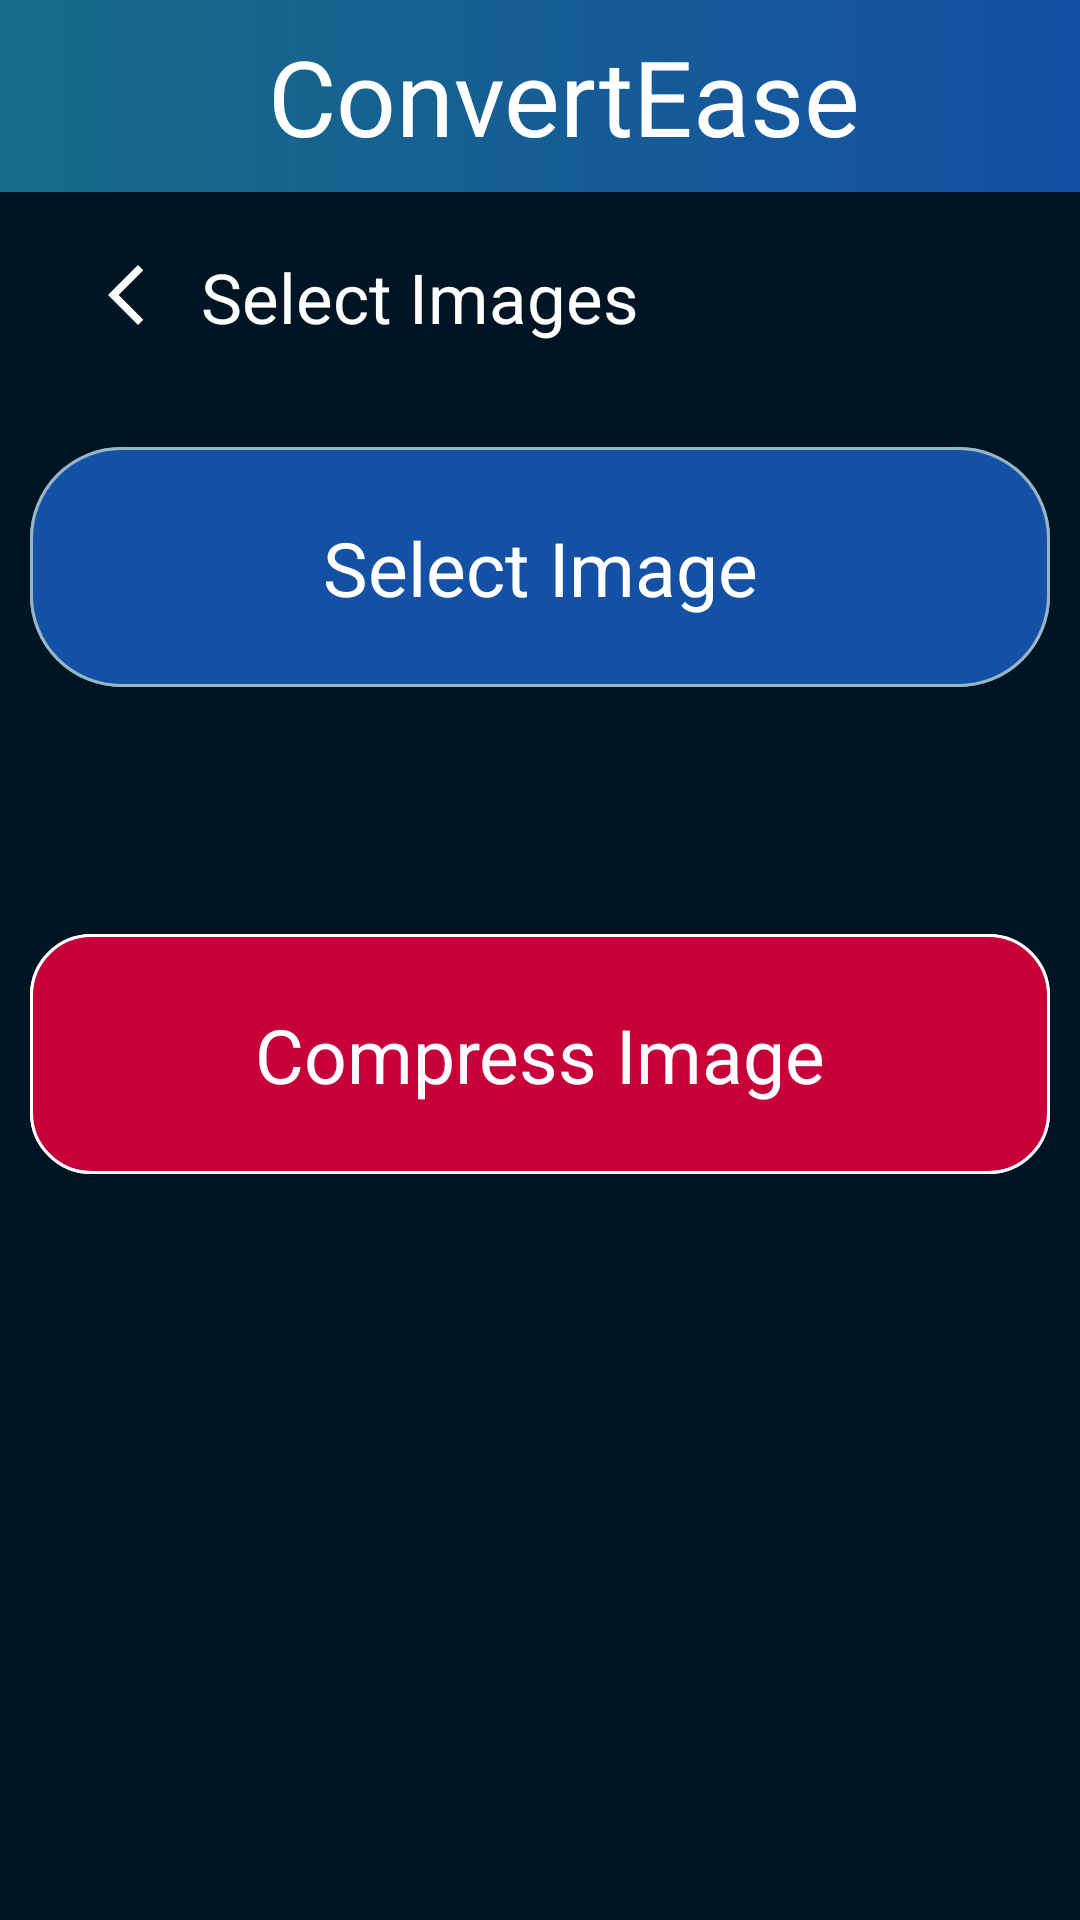

Named icons in this screenshot (1080 x 1920) and their bounding boxes, (x1, y1, x2, y2):
arrow back: (108, 265, 143, 325)
